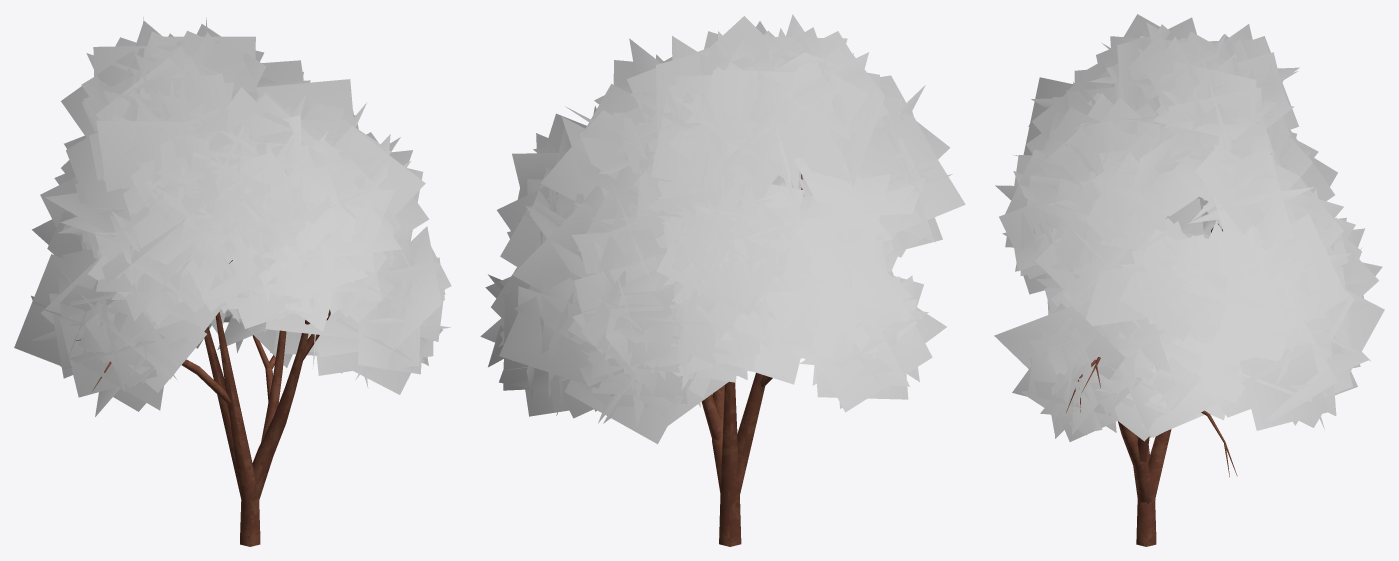
The model's file is FTree.fbx.
3 views of the same model, side by side, from view 1: azimuth 30°, elevation 25°; view 2: azimuth 150°, elevation 25°; view 3: azimuth 270°, elevation 25° (orthographic). The views are drawn at different scales.
Parts seen in each view (by area): view 1: S_Tree_F; view 2: S_Tree_F; view 3: S_Tree_F.
Boxes of the visible parts, x1,y1,x2,y2 form: S_Tree_F: [14, 17, 451, 546]; S_Tree_F: [480, 14, 965, 546]; S_Tree_F: [994, 14, 1384, 546].
Size of the model in its own units: 391 by 507 by 365.
